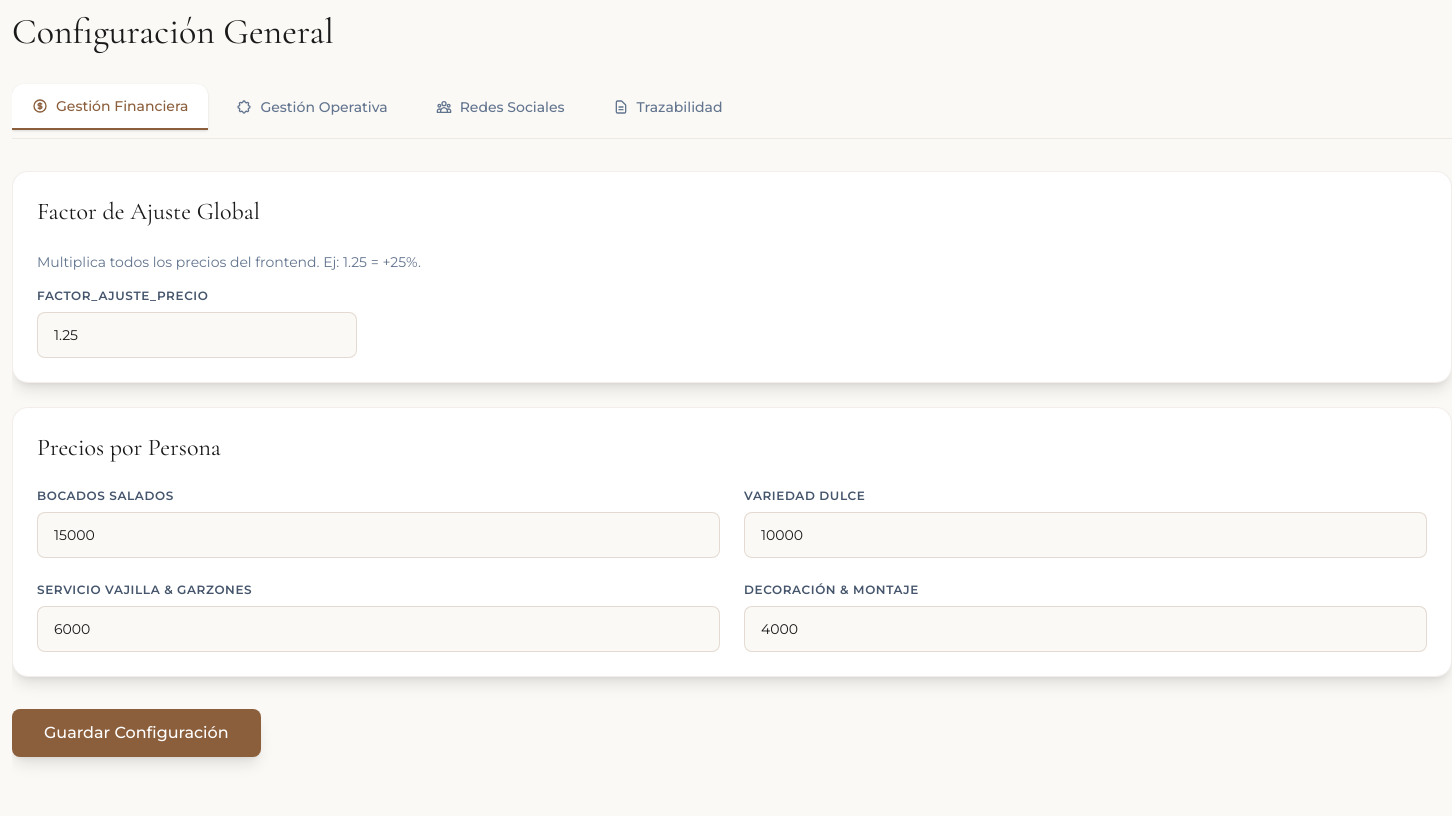
Test: Configuración Page › switches between tabs
Expected: the button "Gestión Financiera" is shown, top-left (12, 84), bottom-right (208, 130)
Click the button "Gestión Operativa". click: coordinates (312, 107)
box: top-left (216, 84), bottom-right (408, 130)
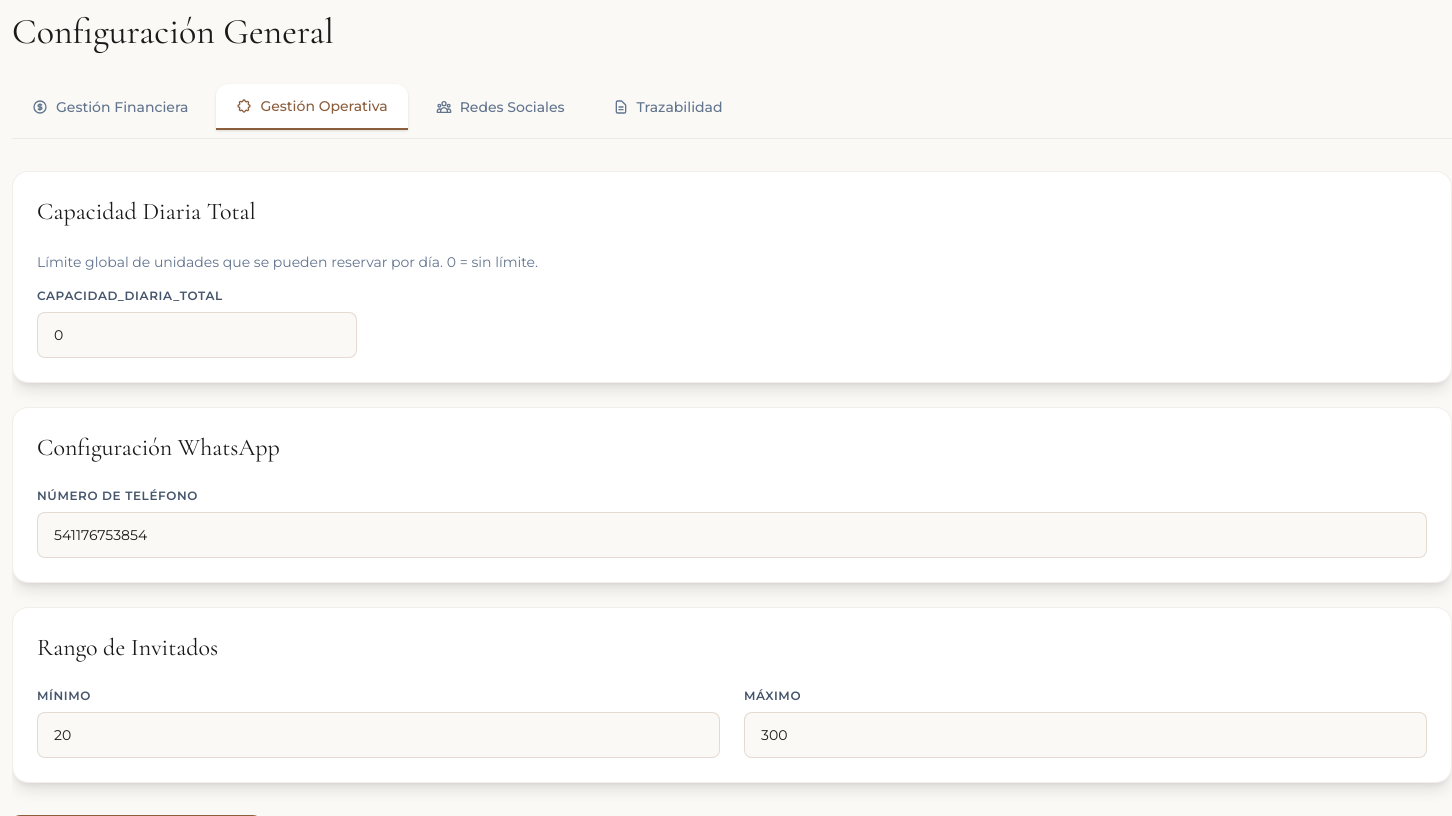
Now the heading "Capacidad Diaria Total" is shown, box top-left (37, 197), bottom-right (256, 226)
